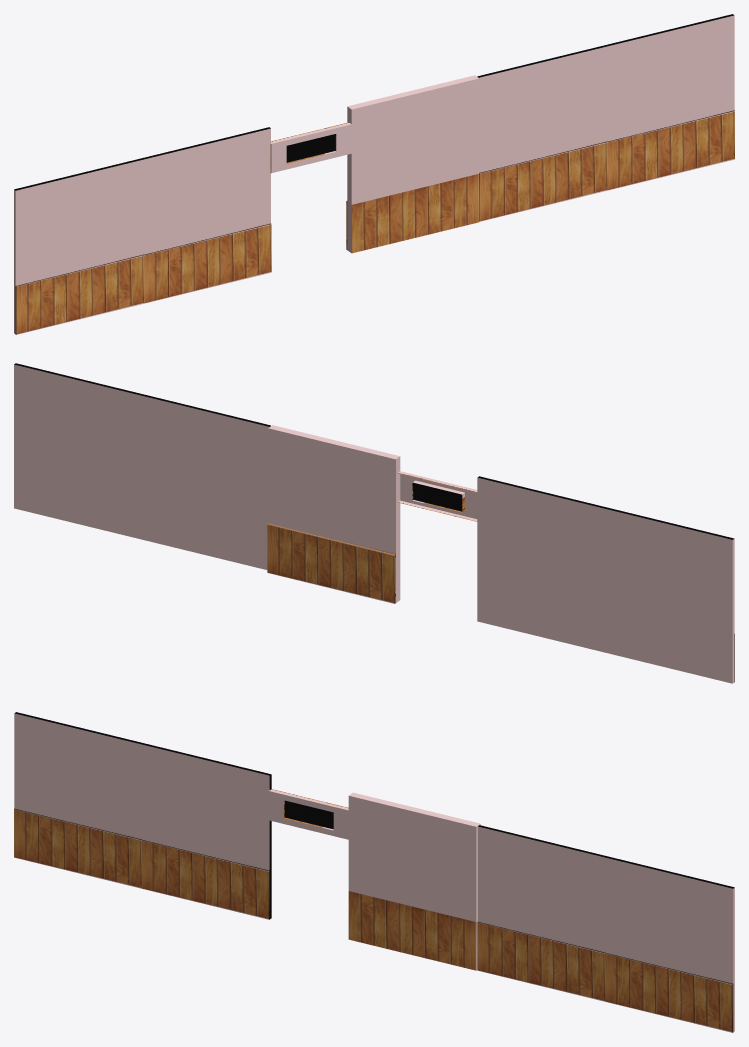
The model's file is Wall.fbx.
The picture shows the model from 3 angles, top to bottom: view 1: azimuth 30°, elevation 25°; view 2: azimuth 150°, elevation 25°; view 3: azimuth 330°, elevation 25°; orthographic projection.
Visible parts, largest first — view 1: Wall Piece 1; view 2: Wall Piece 1; view 3: Wall Piece 1.
Part boxes in pixels (box(x1,y1,x2,y2)): Wall Piece 1: box(14, 14, 734, 334); Wall Piece 1: box(14, 363, 734, 683); Wall Piece 1: box(14, 712, 734, 1032).
Size of the model in its own units: 11809 by 2259 by 151.
2 materials, 1 textured.
